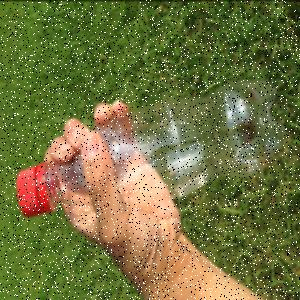Plastic-bottle: (16, 76, 290, 220)
